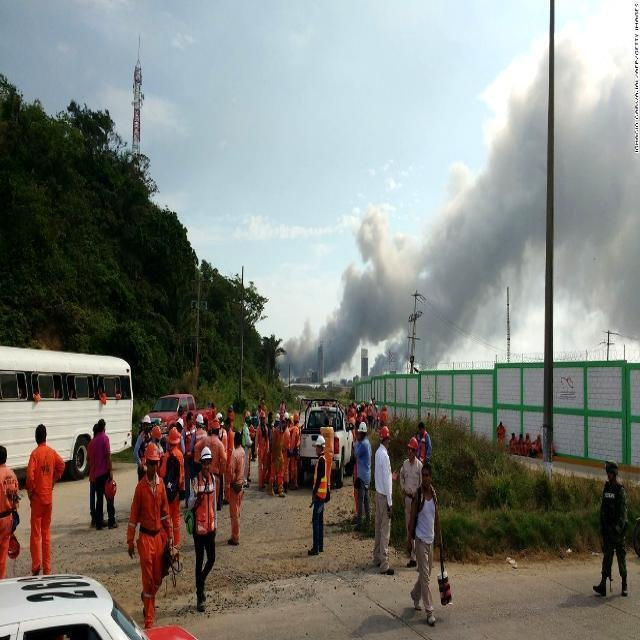Smoke: (446, 2, 640, 320), (284, 203, 443, 377)
